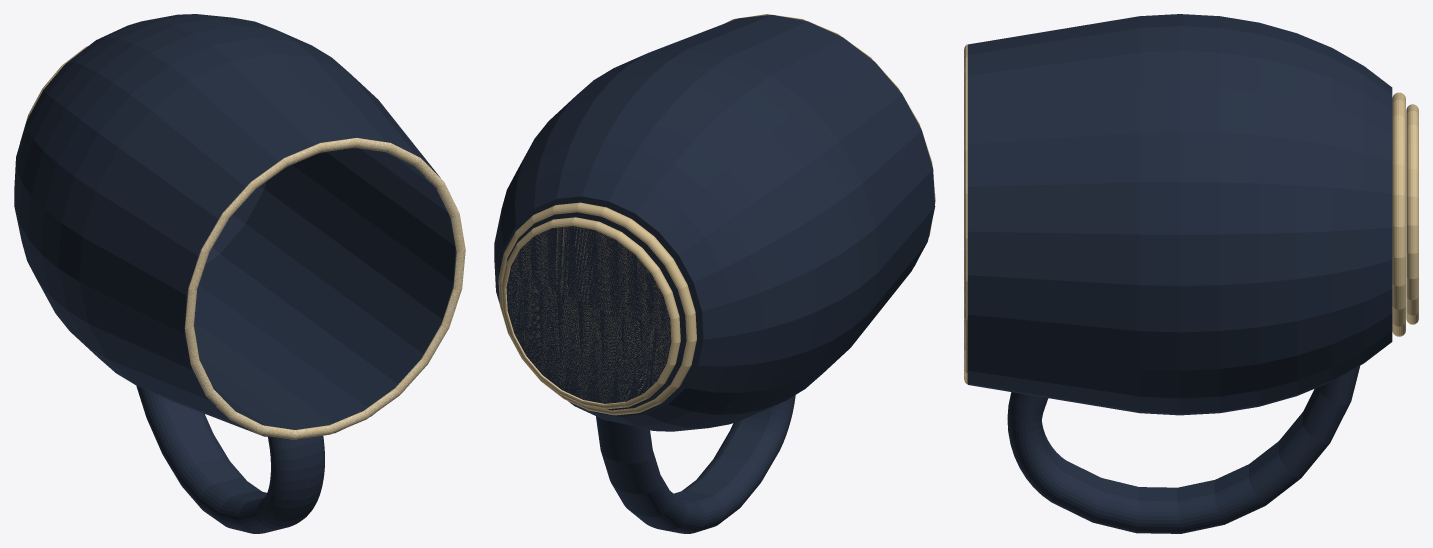
The picture shows the model from 3 angles, left to right: view 1: azimuth 30°, elevation 25°; view 2: azimuth 150°, elevation 25°; view 3: azimuth 270°, elevation 25°; orthographic projection. The views are drawn at different scales.
Visible parts, largest first — view 1: coffee mug; view 2: coffee mug; view 3: coffee mug.
Boxes of the visible parts, bbox=[...] form: coffee mug: bbox=[14, 14, 465, 533]; coffee mug: bbox=[494, 14, 935, 533]; coffee mug: bbox=[964, 14, 1418, 533].
Bounding box in the file's own units: 42.36 × 57.66 × 47.89.
